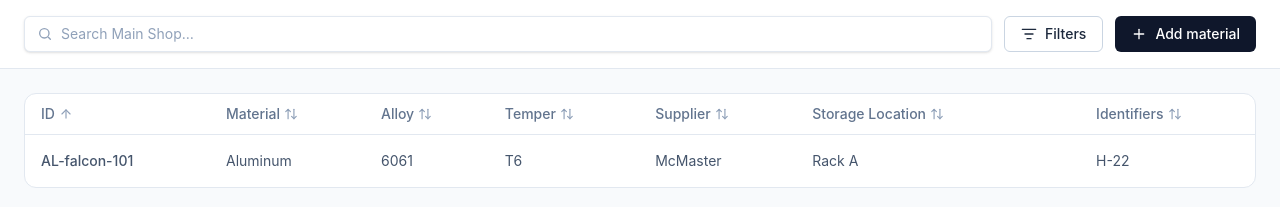
Test: MaterialsWorkspace › shows archived search hits even when browsing active materials
This screenshot has width=1280, height=207.
Check: the text "AL-river-102" is not shown
In the field with placeholder "Search Main Shop…": (520, 34) [61,24,979,44], type "river"
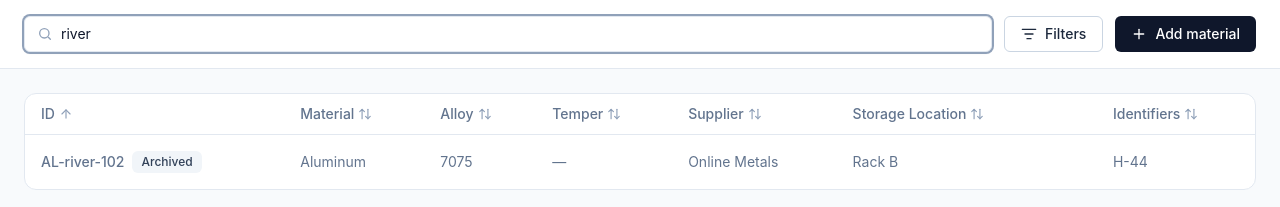
Check: the text "AL-river-102" is shown, box [41,152,124,172]
Check: the text "Archived" is shown, box [132,150,202,172]
